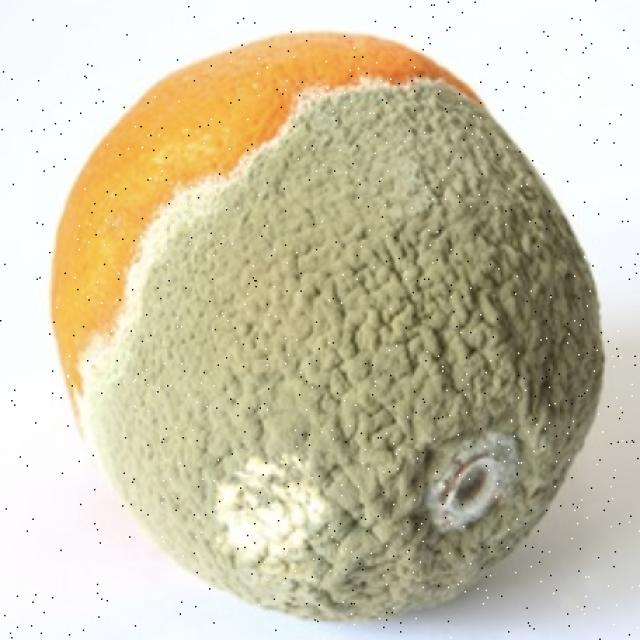Organik: (13, 2, 612, 629)
